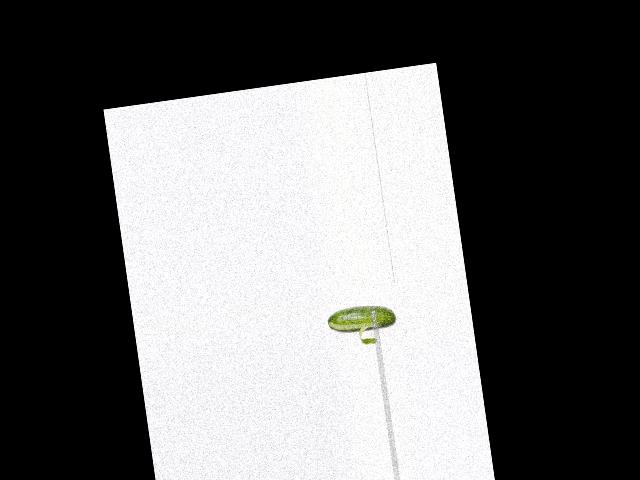cucumber: (326, 301, 397, 336)
